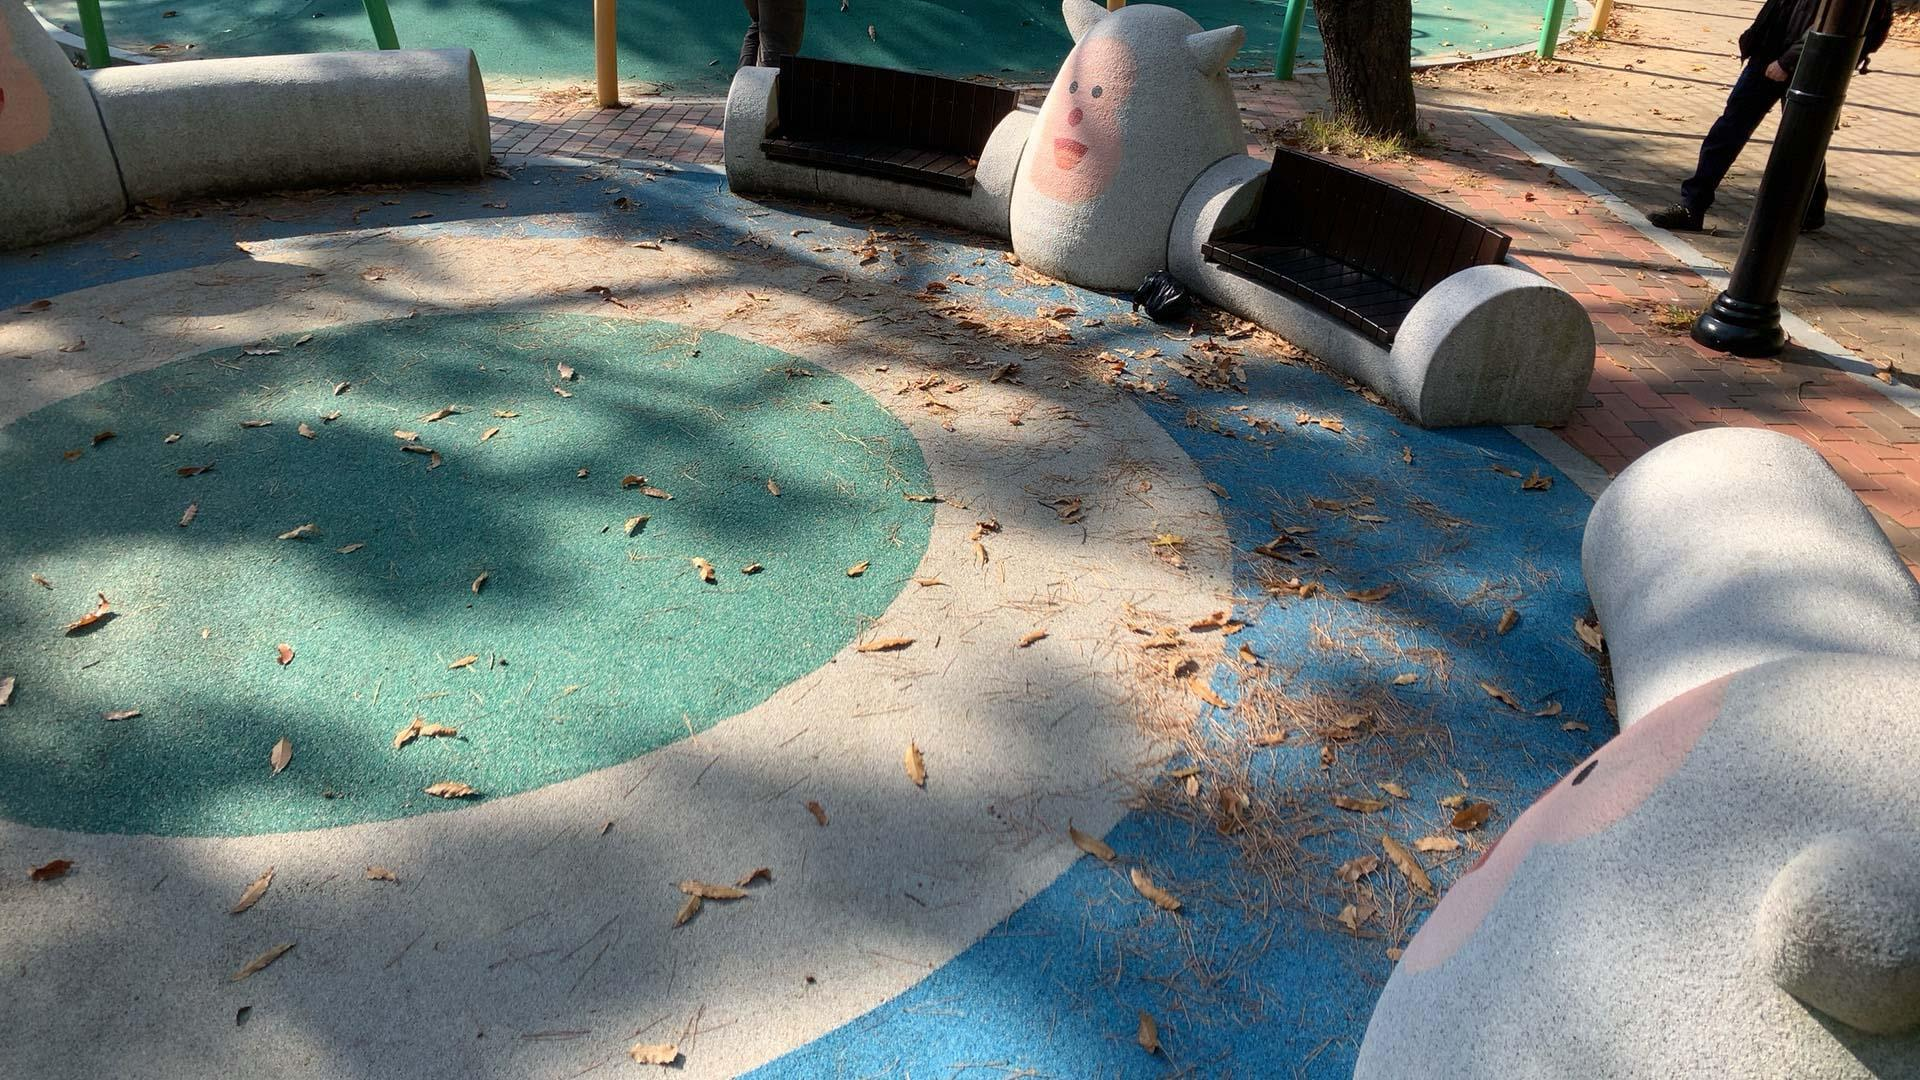black_bag: (1126, 266, 1196, 328)
